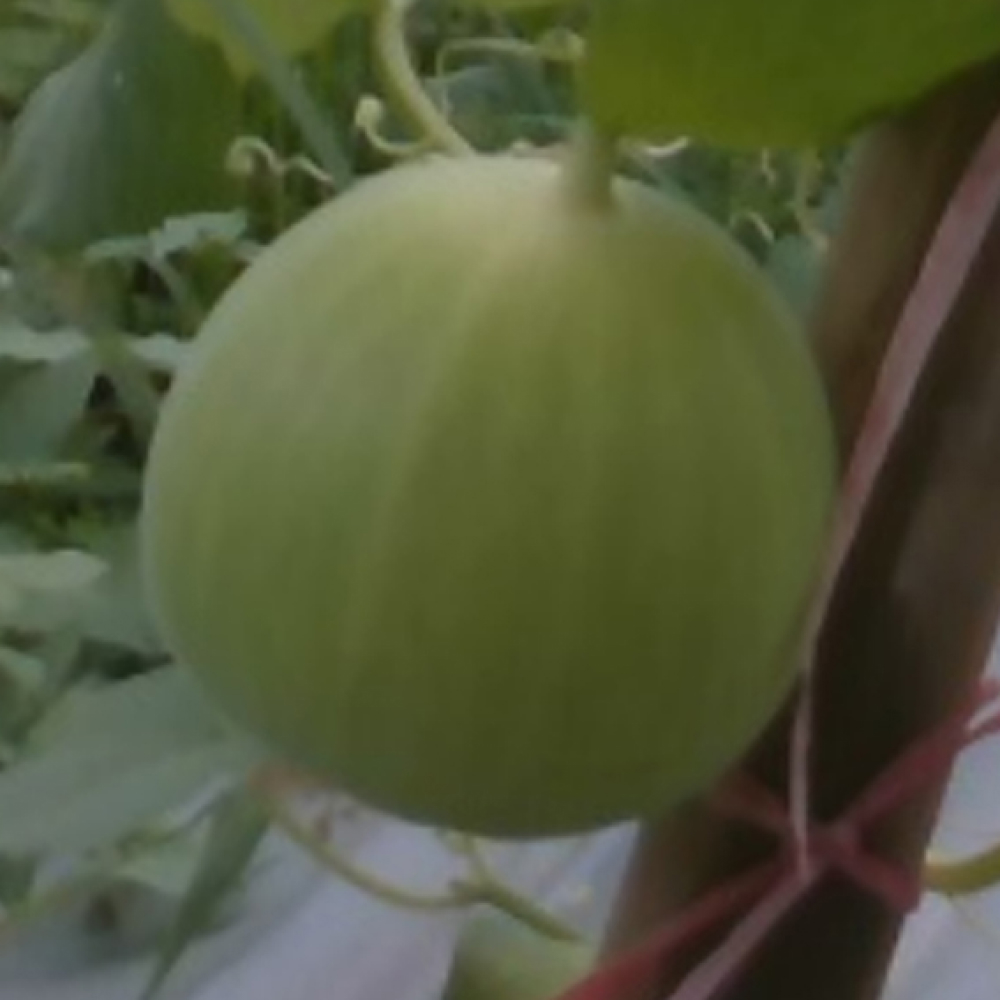melon: (134, 153, 840, 848)
